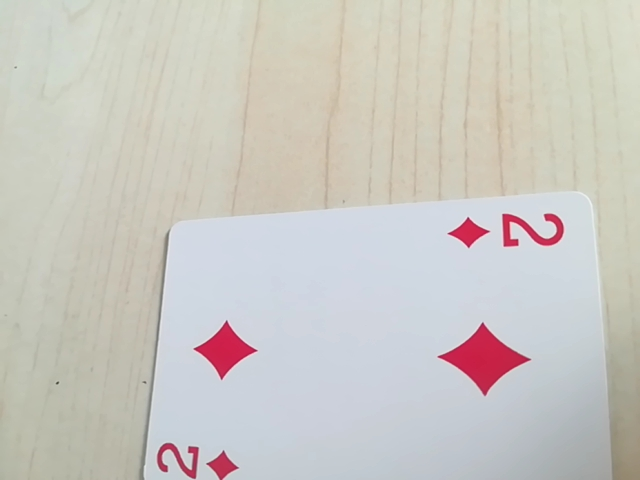fk 2: (445, 204, 571, 259), (152, 433, 248, 480)
